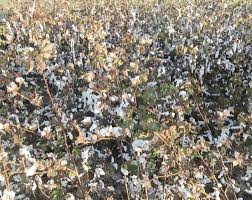damaged_cotton: (46, 111, 232, 195), (1, 7, 111, 105), (155, 5, 249, 80)
